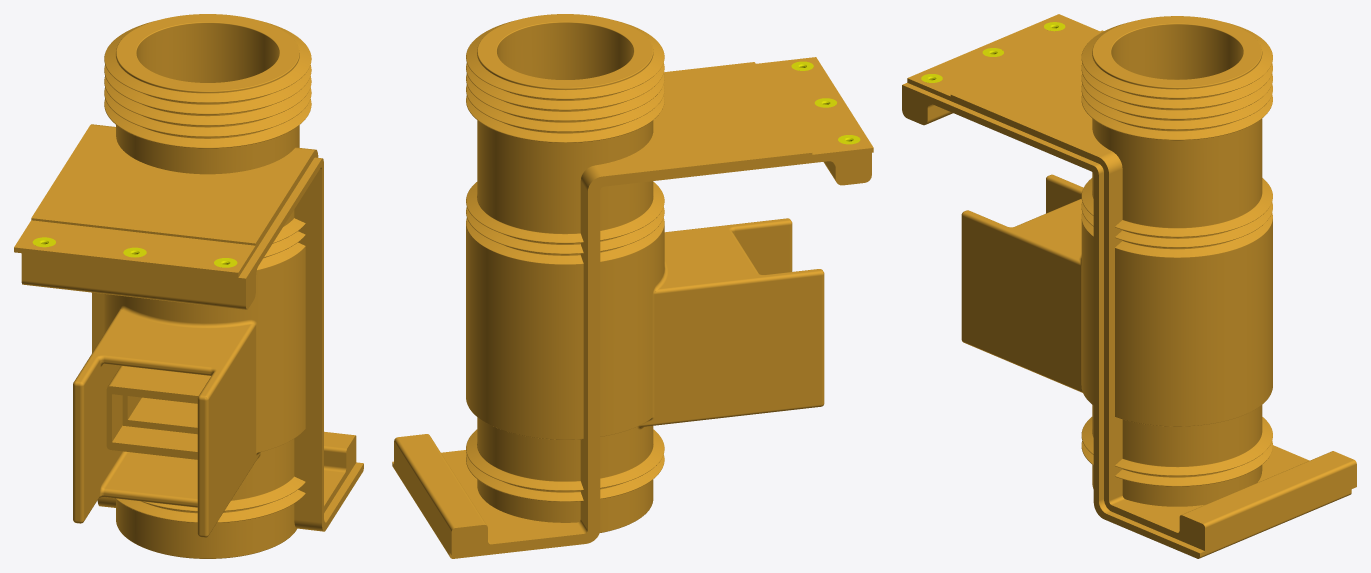
Rendered from 04.19_izolyator-prokhodnoy-uglovoy-ipu-35-583x660.glb.
3 renders of one model, left to right at view 1: azimuth 30°, elevation 25°; view 2: azimuth 150°, elevation 25°; view 3: azimuth 270°, elevation 25°, orthographic. The views are drawn at different scales.
Parts seen in each view (by area): view 1: 04.19_izolyator-prokhodnoy-uglovoy-ipu-35-583x660; view 2: 04.19_izolyator-prokhodnoy-uglovoy-ipu-35-583x660; view 3: 04.19_izolyator-prokhodnoy-uglovoy-ipu-35-583x660.
Part boxes in pixels (x1,y1,x2,y2): 04.19_izolyator-prokhodnoy-uglovoy-ipu-35-583x660: [14, 14, 363, 558]; 04.19_izolyator-prokhodnoy-uglovoy-ipu-35-583x660: [392, 14, 873, 558]; 04.19_izolyator-prokhodnoy-uglovoy-ipu-35-583x660: [902, 14, 1356, 558].
Bounding box in the file's own units: 629 × 660 × 629.
